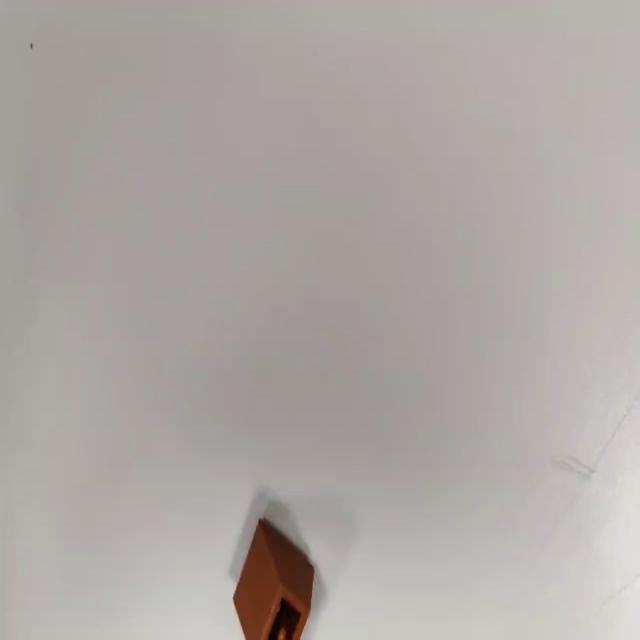X2x2x1: (231, 513, 315, 638)
